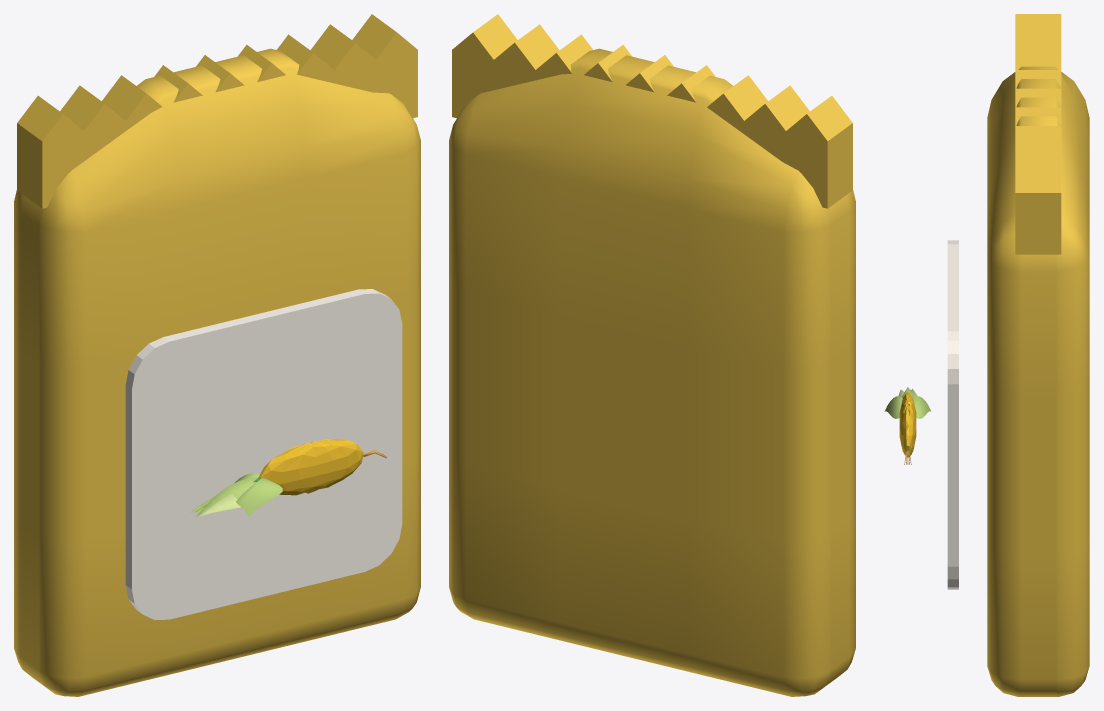
Rendered from semente-milho.glb.
3 renders of one model, left to right at view 1: azimuth 30°, elevation 25°; view 2: azimuth 150°, elevation 25°; view 3: azimuth 270°, elevation 25°, orthographic. The views are drawn at different scales.
Visible parts, largest first — view 1: semente-milho; view 2: semente-milho; view 3: semente-milho.
Boxes of the visible parts, x1,y1,x2,y2 form: semente-milho: (14,14,420,696); semente-milho: (449,14,855,696); semente-milho: (884,14,1089,696).
Size of the model in its own units: 0.14 by 0.208 by 0.0723.
